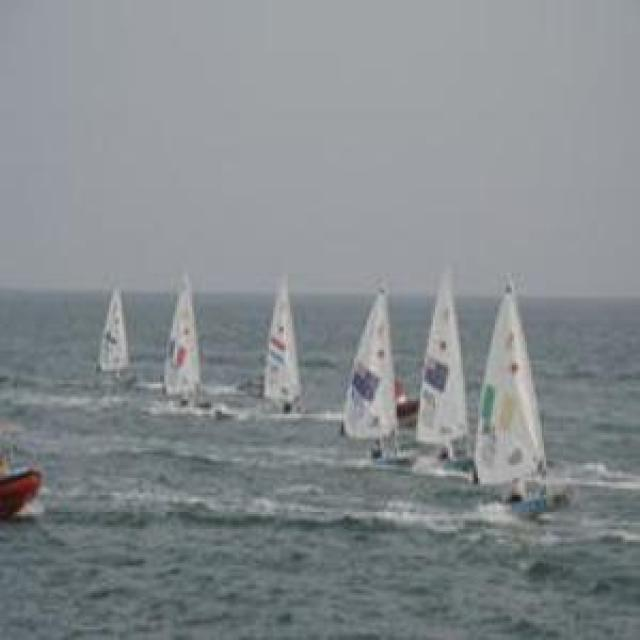sailboat: (466, 274, 550, 509), (333, 280, 404, 477), (414, 266, 464, 472), (162, 266, 208, 402), (258, 271, 297, 420), (96, 282, 134, 387)
